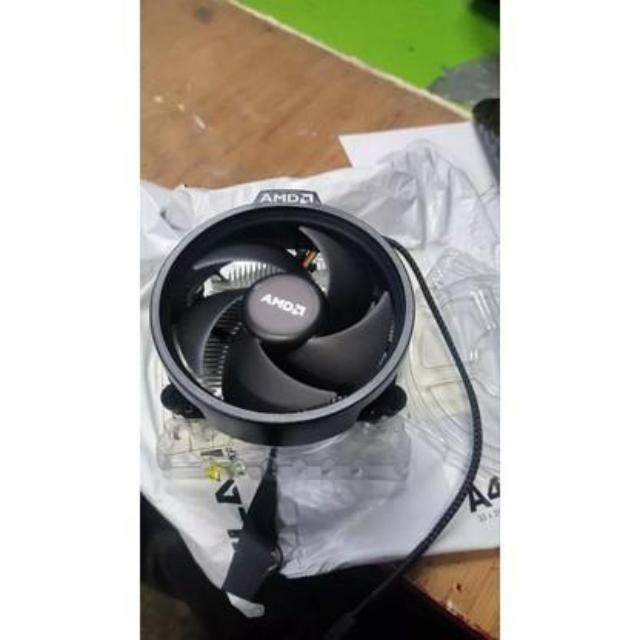CPU_Fan: (152, 188, 406, 443)
